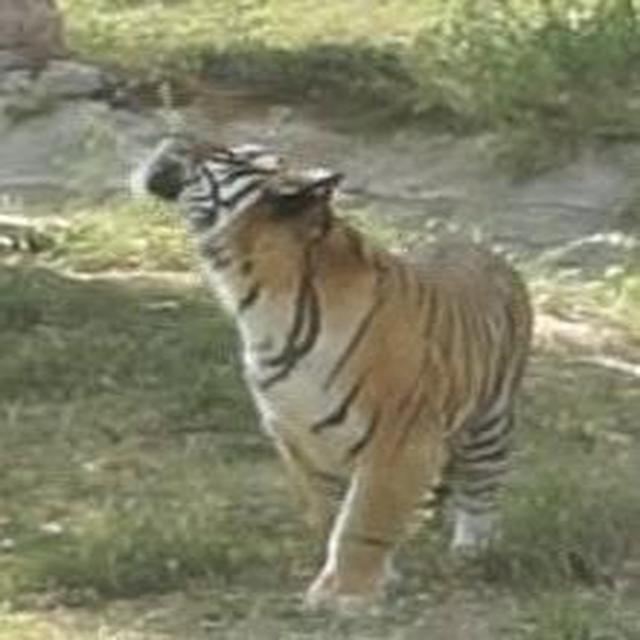tiger: (118, 101, 544, 626)
